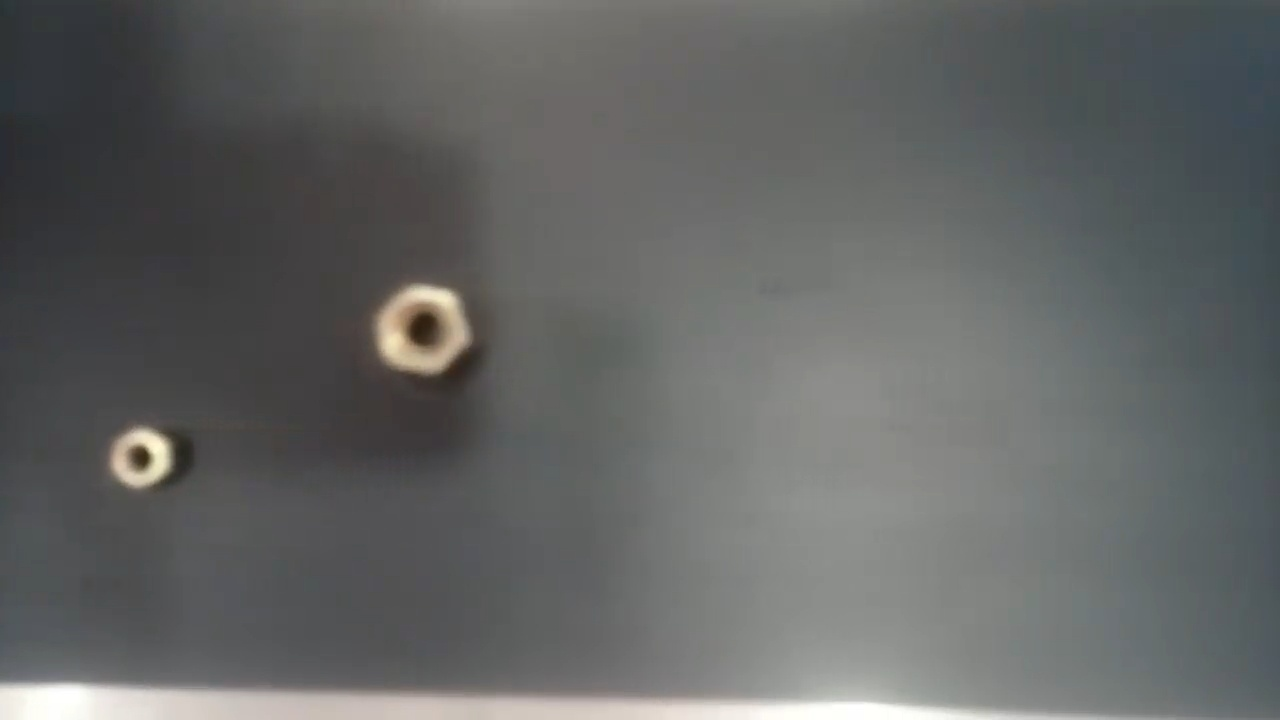Bolt: (368, 278, 475, 383), (105, 423, 179, 500)
